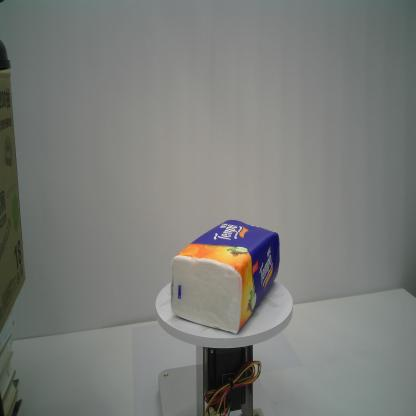Tissue: (169, 217, 280, 338)
